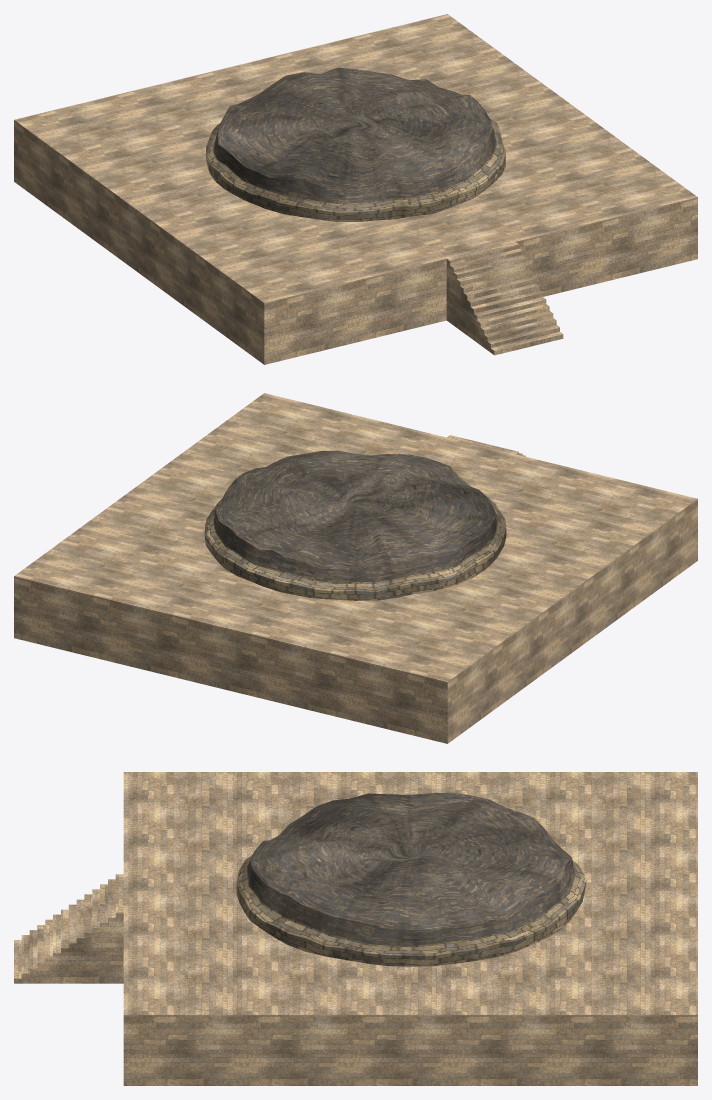
The model's file is butkara-i-stupa.glb.
3 views of the same model, one above another, from view 1: azimuth 30°, elevation 25°; view 2: azimuth 150°, elevation 25°; view 3: azimuth 270°, elevation 25° (orthographic). The views are drawn at different scales.
Visible parts, largest first — view 1: butkara-i-stupa_blocks, butkara-i-stupa_lathe; view 2: butkara-i-stupa_blocks, butkara-i-stupa_lathe; view 3: butkara-i-stupa_blocks, butkara-i-stupa_lathe.
Part boxes in pixels (<box>): butkara-i-stupa_blocks: <box>14,14,697,364</box>; butkara-i-stupa_lathe: <box>205,67,505,221</box>; butkara-i-stupa_blocks: <box>14,393,697,743</box>; butkara-i-stupa_lathe: <box>204,450,506,600</box>; butkara-i-stupa_blocks: <box>14,772,697,1085</box>; butkara-i-stupa_lathe: <box>236,792,586,966</box>.
Size of the model in its own units: 22 by 5.08 by 26.2.
2 materials, 2 textured.
